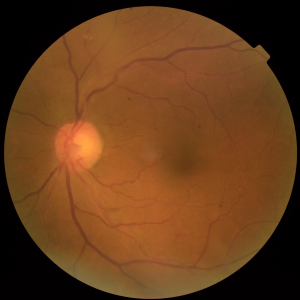cataract: (27, 88, 236, 208)
